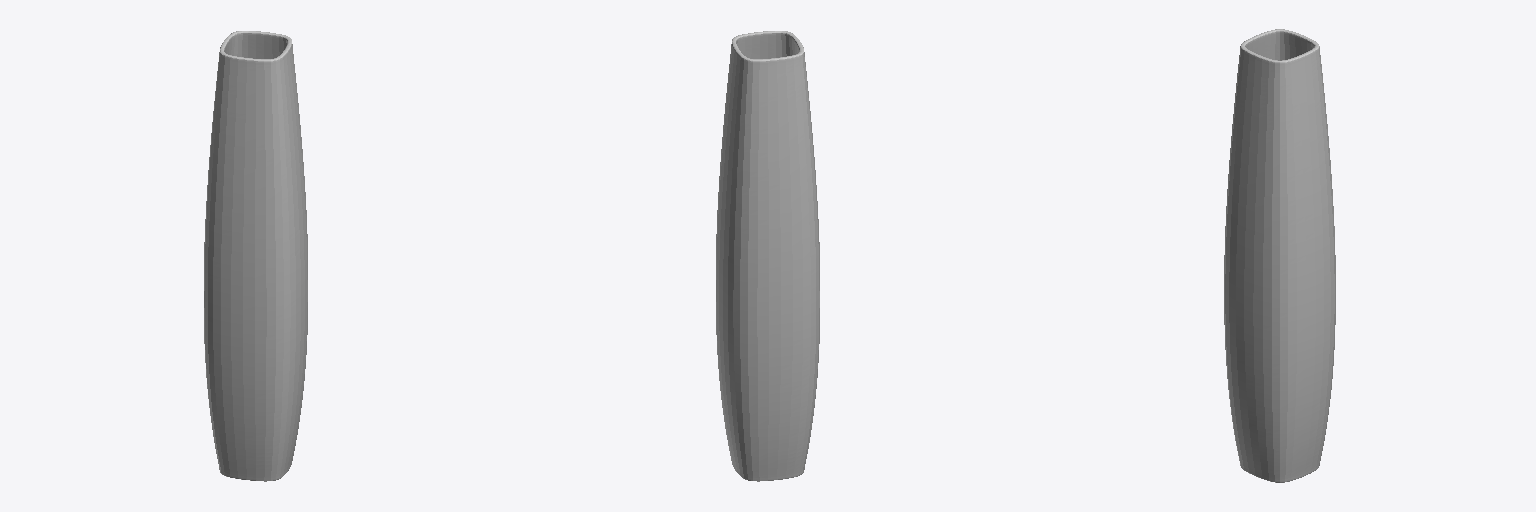
File: build-vase-4.obj
3 views of the same model, side by side, from view 1: azimuth 30°, elevation 25°; view 2: azimuth 150°, elevation 25°; view 3: azimuth 270°, elevation 25° (orthographic).
Visible parts, largest first — view 1: VaseGenerator; view 2: VaseGenerator; view 3: VaseGenerator.
Boxes of the visible parts, x1,y1,x2,y2 form: VaseGenerator: [204, 31, 307, 481]; VaseGenerator: [716, 31, 819, 481]; VaseGenerator: [1224, 29, 1335, 482].
Bounding box in the file's own units: 0.0568 × 0.236 × 0.0568.